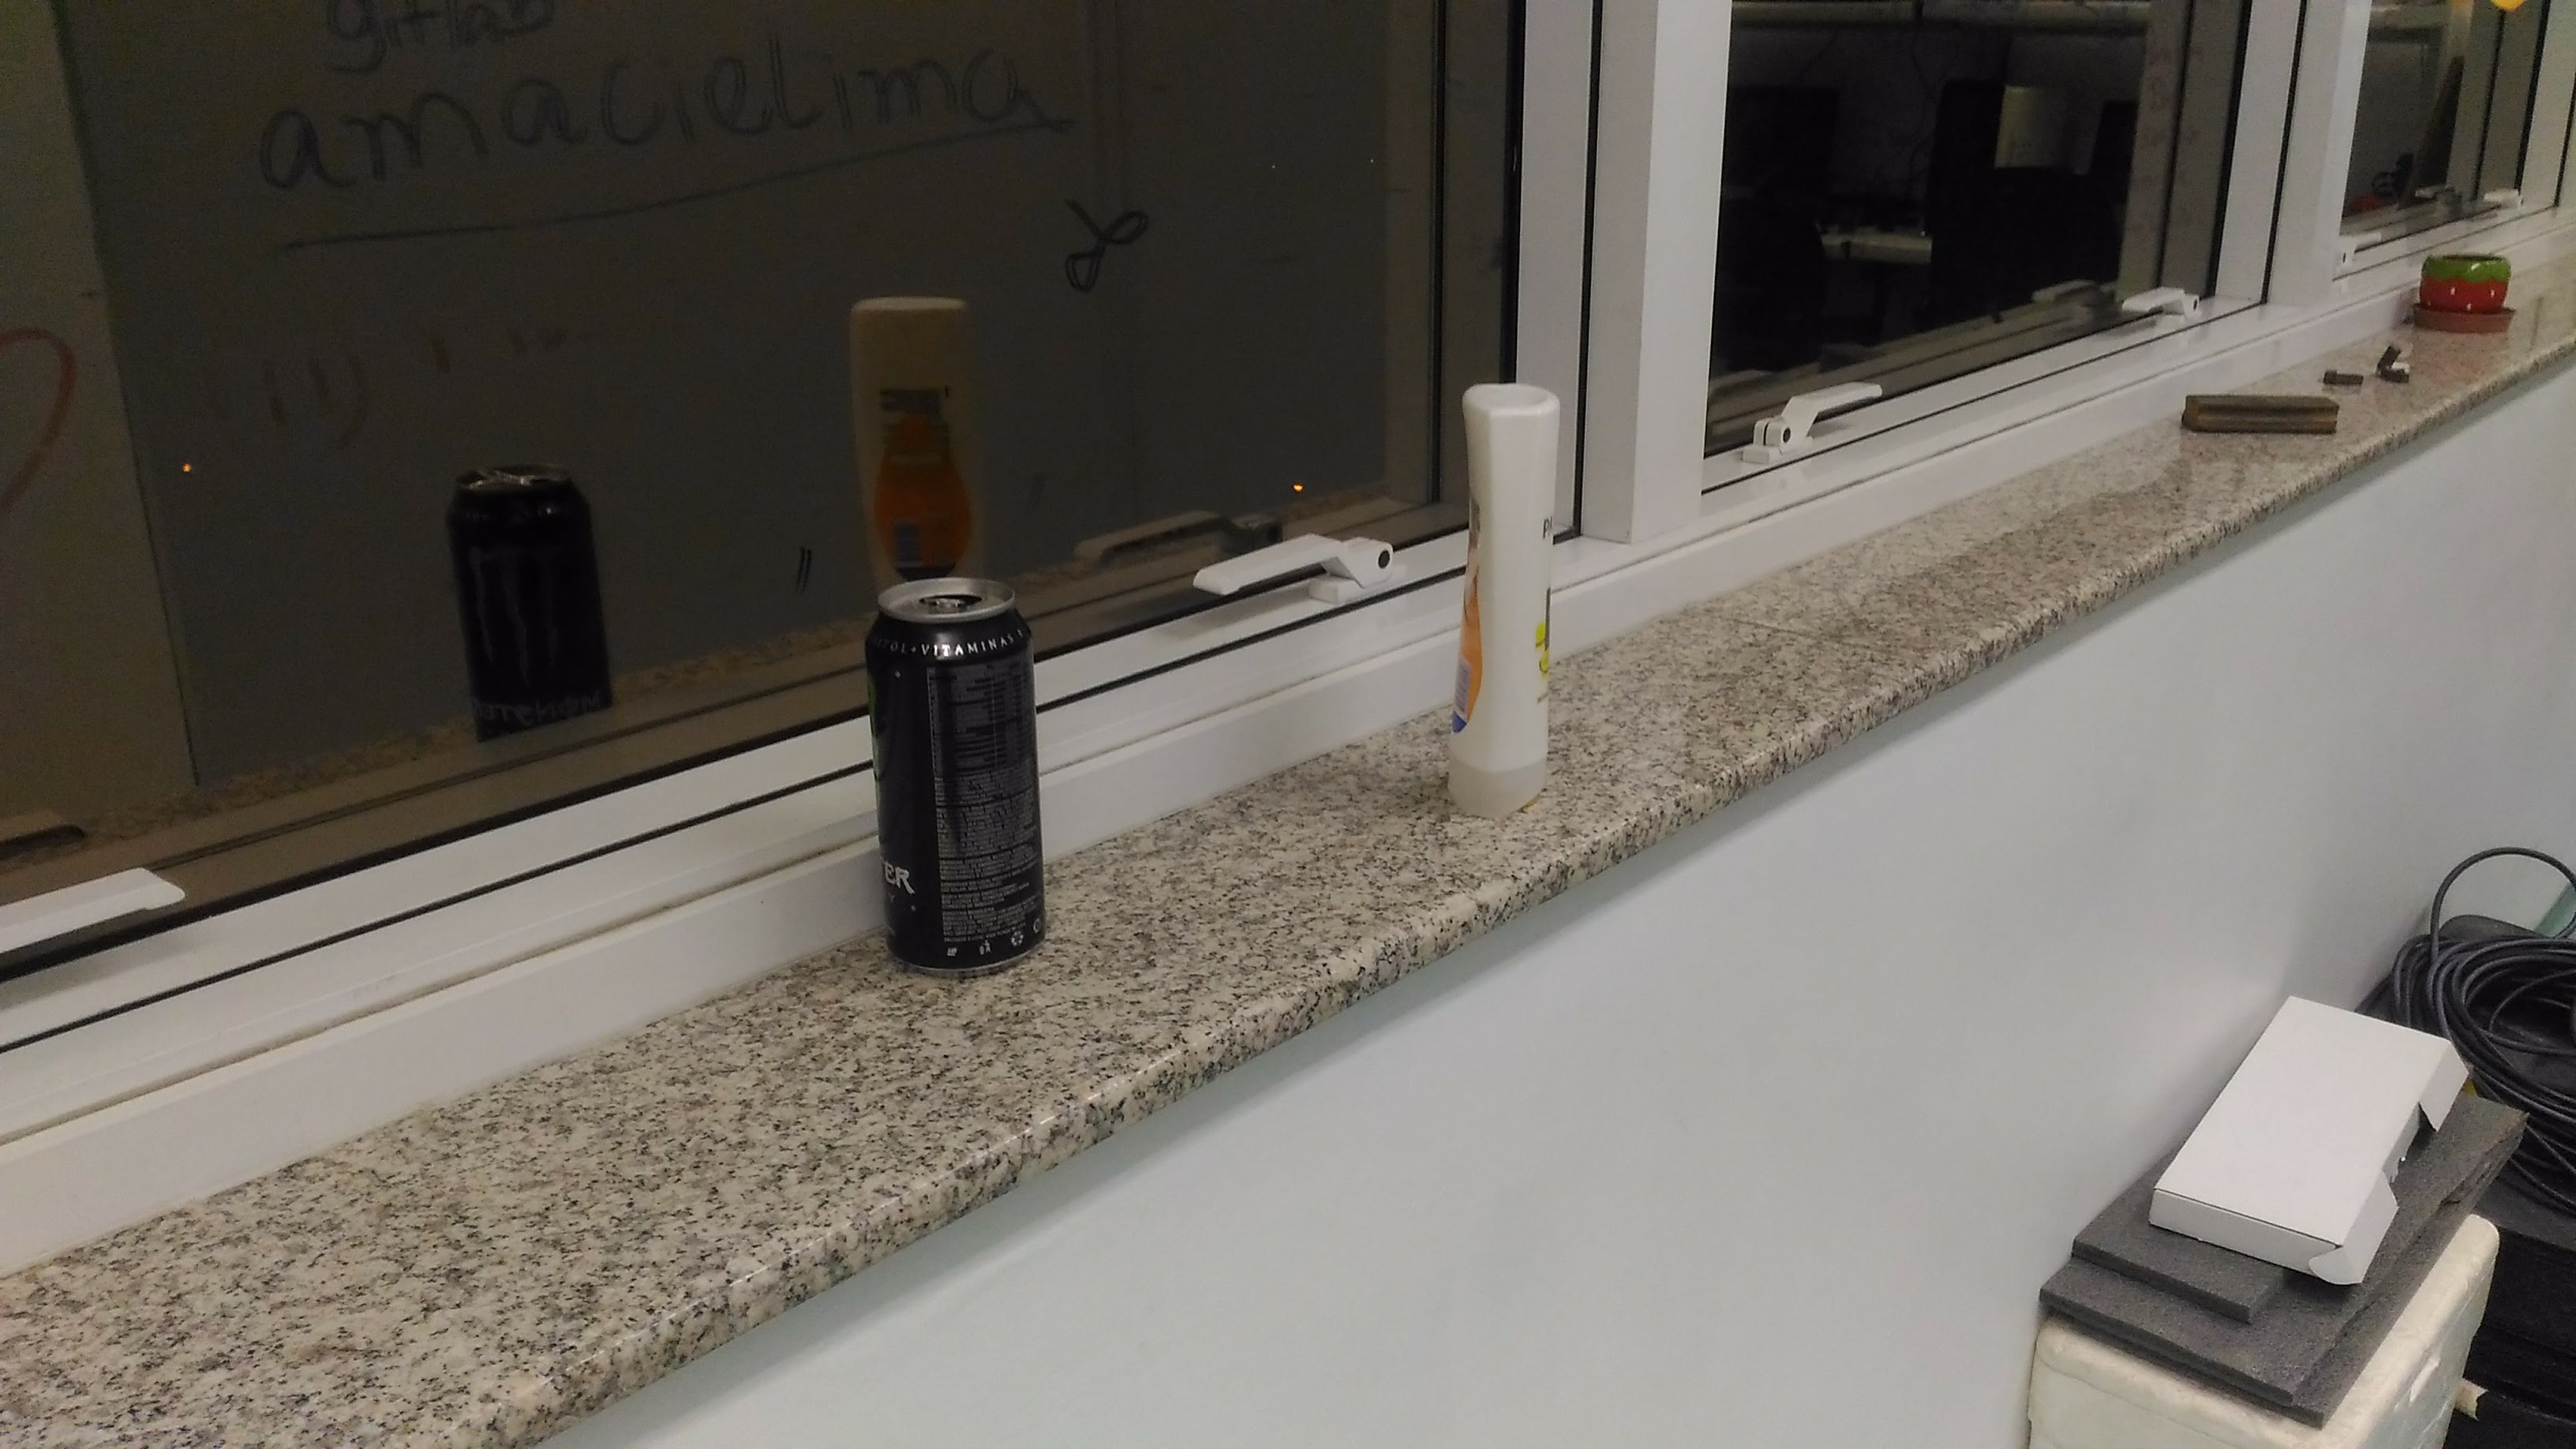monster: (856, 579, 1060, 982)
shampoo: (1449, 366, 1573, 816)
